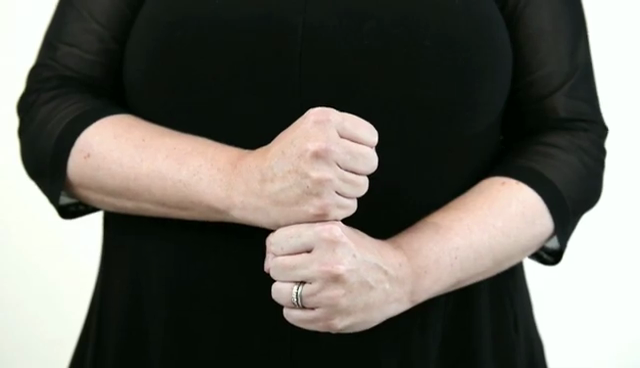G: (251, 97, 406, 342)
